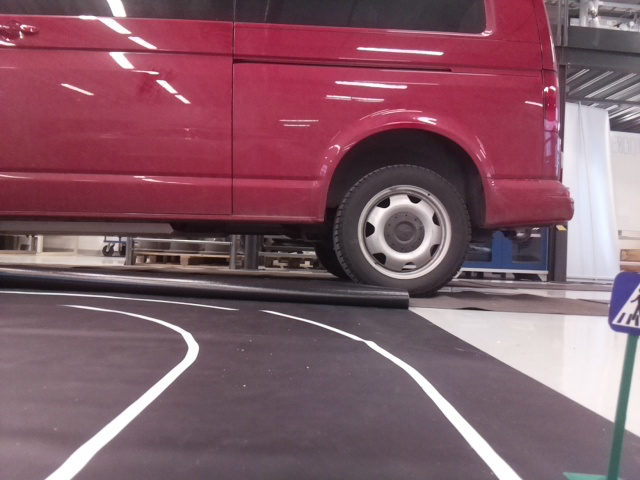Crosswalk: (611, 271, 639, 334)
